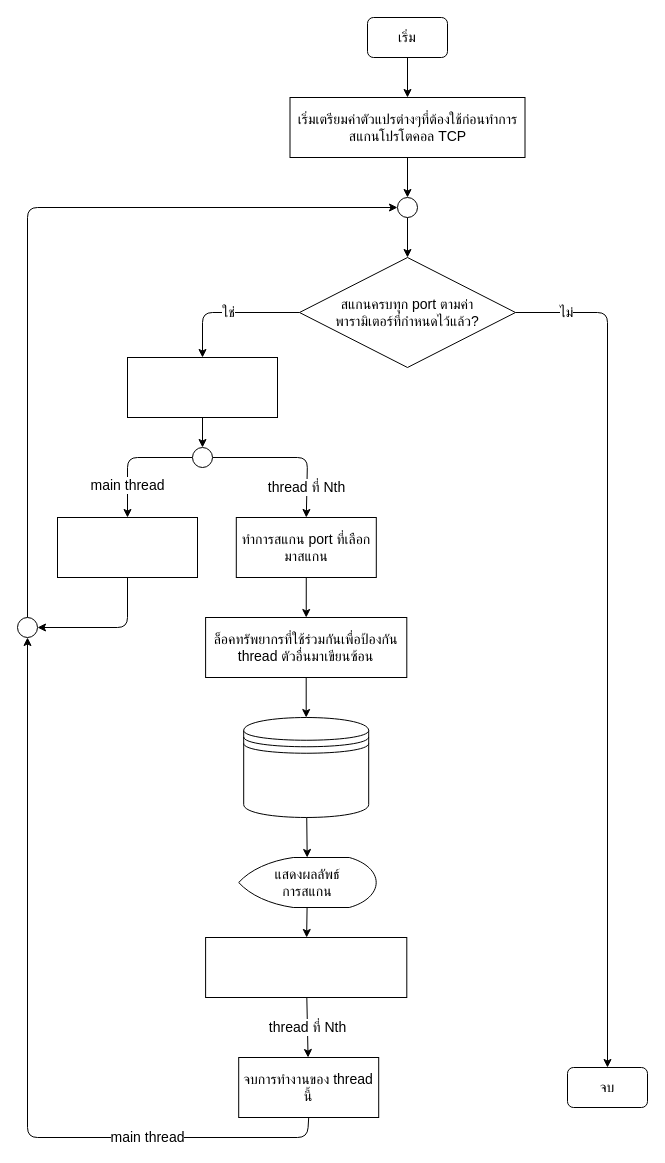
The diagram is 665 pixels wide and 1163 high, and some of its shapes have lost their labels. Here are the shapes that lost their labels. From the top down, the centre of each, then its label:
point 202,387: สร้าง thread แยกขึ้นมาเพื่อดำเนินการสแกน
point 127,547: เลือก port ลำดับถัดไปมาทำการสแกน
point 306,767: บันทึกสถานะของ port ที่สแกนลง ฐานข้อมูล
point 306,967: ปลดล็อคทรัพยากรที่ใช้ร่วมกัน
